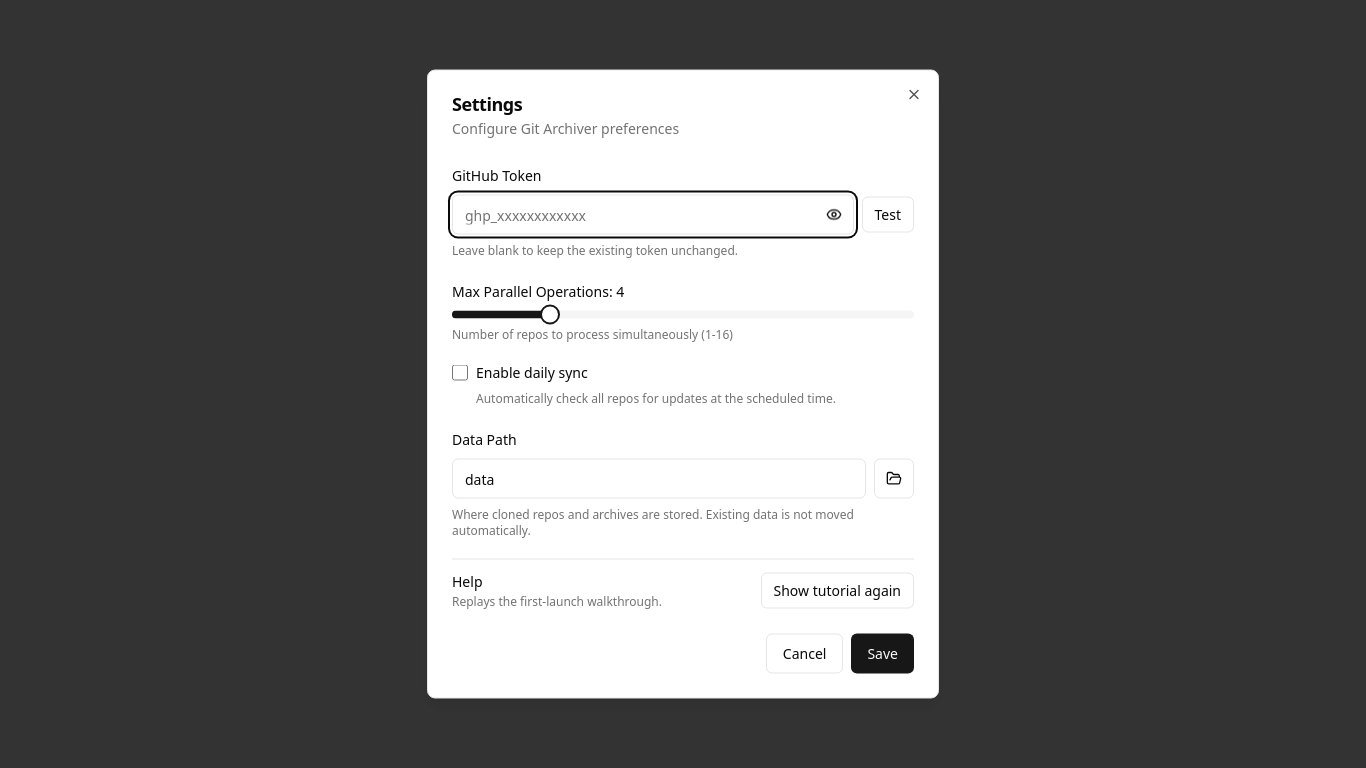
SettingsDialog › shows time picker when daily sync is enabled
Check: the field labelled "Sync at" is not shown
Click the checkbox labelled "Enable daily sync" at (460, 372), box [452,364,468,380]
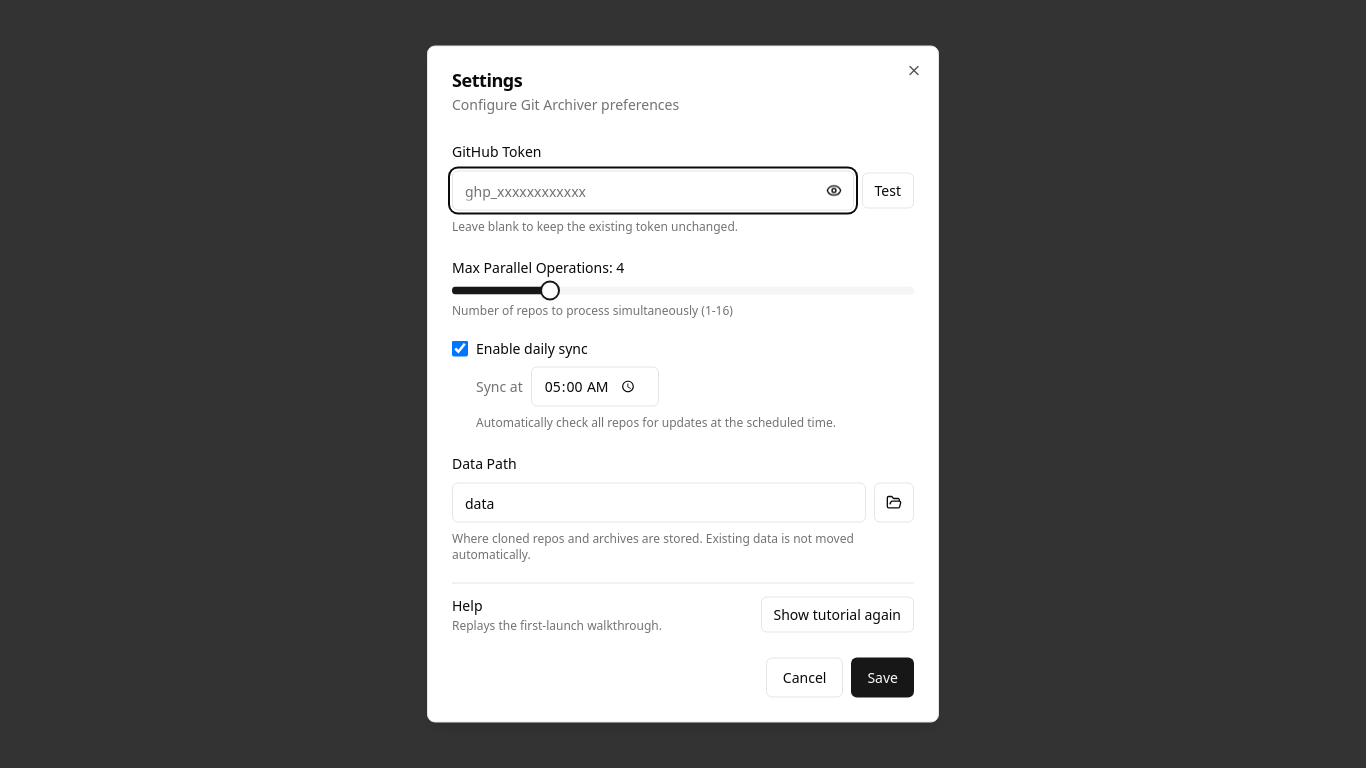
Check: the time field labelled "Sync at" is shown, box [531,366,659,406]
